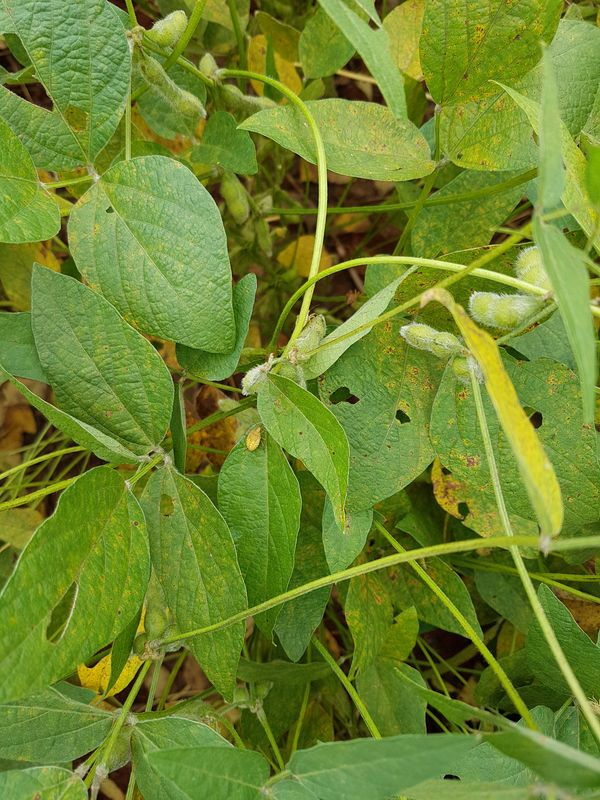Euschistus_heros_ninfa: (236, 420, 273, 457)
